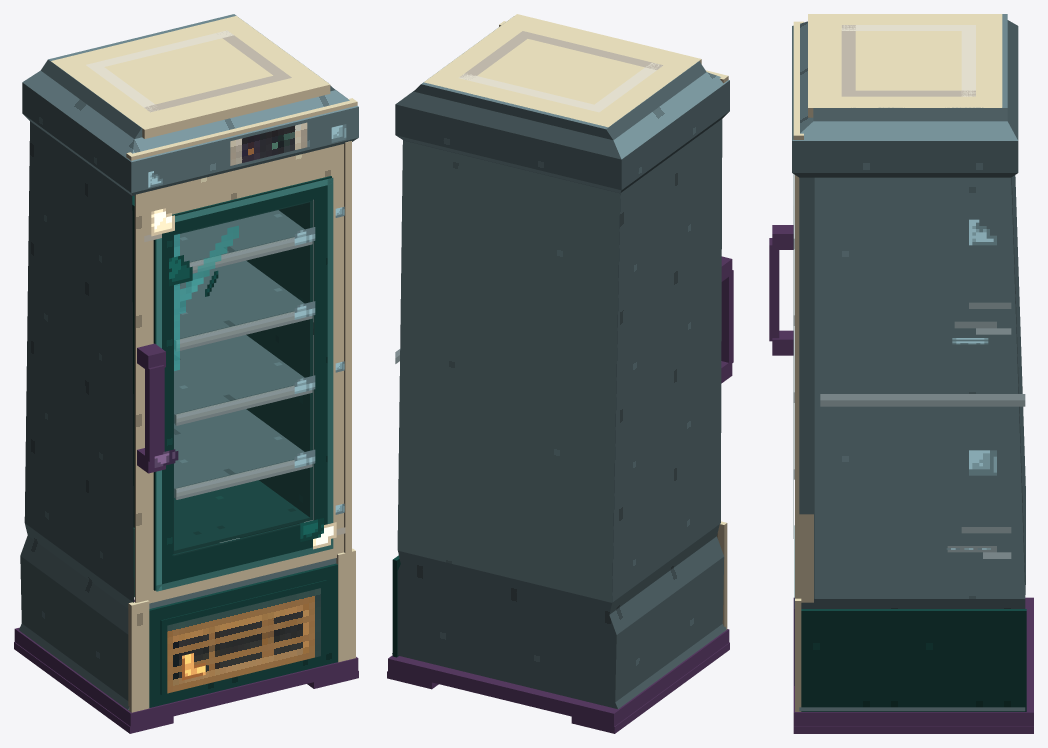
File: vaccine-fridge-ps1-decals-v8.glb
3 renders of one model, left to right at view 1: azimuth 30°, elevation 25°; view 2: azimuth 150°, elevation 25°; view 3: azimuth 270°, elevation 25°, orthographic. The views are drawn at different scales.
Visible parts, largest first — view 1: source_hull, front_glass, nano_tile_top_surface, fixed_grille, cavity_right, cream_frame_left, condenser_front_panel, shelf_48, shelf_36, shelf_60, cavity_floor, plinth_rail (+33 smaller); view 2: source_hull, nano_tile_back_panel, nano_tile_top_surface, plinth_rail, foot_left, handle_grip, roof_inset_front_dark, roof_inset_back_light, roof_inset_left_light, roof_inset_right_dark, base_corner_left, side_base_panel_right; view 3: nano_tile_side_panel, source_hull, side_base_panel_right, nano_tile_top_surface, plinth_rail, cream_corner_right, foot_right, nano_tile_back_panel, side_panel_semantic_seam_dark, side_panel_semantic_seam_light, roof_inset_front_dark, roof_inset_back_light (+9 smaller).
Part boxes in pixels (x1=…): source_hull: x1=19, y1=14, x2=358, y2=709; front_glass: x1=173, y1=200, x2=314, y2=555; nano_tile_top_surface: x1=51, y1=16, x2=329, y2=129; fixed_grille: x1=167, y1=588, x2=320, y2=693; cavity_right: x1=246, y1=200, x2=312, y2=517; cream_frame_left: x1=134, y1=190, x2=153, y2=603; condenser_front_panel: x1=149, y1=563, x2=337, y2=707; shelf_48: x1=174, y1=335, x2=304, y2=423; shelf_36: x1=174, y1=409, x2=303, y2=497; shelf_60: x1=174, y1=261, x2=304, y2=348; cavity_floor: x1=134, y1=480, x2=312, y2=553; plinth_rail: x1=14, y1=599, x2=358, y2=726; source_hull: x1=392, y1=16, x2=729, y2=708; nano_tile_back_panel: x1=397, y1=140, x2=620, y2=602; nano_tile_top_surface: x1=424, y1=14, x2=700, y2=127; plinth_rail: x1=388, y1=629, x2=729, y2=726; foot_left: x1=571, y1=642, x2=729, y2=733; handle_grip: x1=721, y1=270, x2=733, y2=365; roof_inset_front_dark: x1=516, y1=31, x2=662, y2=69; roof_inset_back_light: x1=459, y1=73, x2=605, y2=112; roof_inset_left_light: x1=589, y1=63, x2=661, y2=112; roof_inset_right_dark: x1=460, y1=31, x2=531, y2=79; base_corner_left: x1=717, y1=521, x2=727, y2=629; side_base_panel_right: x1=392, y1=555, x2=400, y2=657; nano_tile_side_panel: x1=814, y1=177, x2=1025, y2=598; source_hull: x1=792, y1=14, x2=1025, y2=711; side_base_panel_right: x1=801, y1=609, x2=1026, y2=711; nano_tile_top_surface: x1=808, y1=14, x2=1002, y2=107; plinth_rail: x1=793, y1=597, x2=1033, y2=726; cream_corner_right: x1=795, y1=175, x2=813, y2=602; foot_right: x1=793, y1=726, x2=1033, y2=733; nano_tile_back_panel: x1=1011, y1=175, x2=1025, y2=594; side_panel_semantic_seam_dark: x1=820, y1=400, x2=1025, y2=406; side_panel_semantic_seam_light: x1=820, y1=394, x2=1025, y2=400; roof_inset_front_dark: x1=841, y1=25, x2=855, y2=96; roof_inset_back_light: x1=961, y1=25, x2=975, y2=96.
Size of the model in its own units: 1.21 by 3 by 1.17.
Materials: 28 (15 with a texture image).
